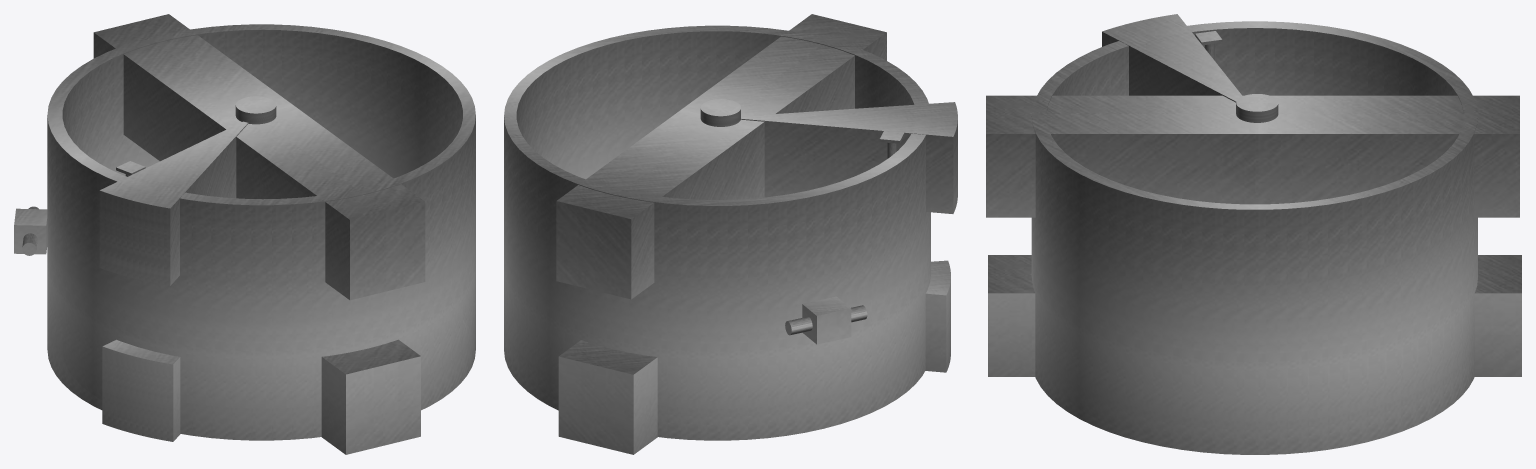
The model's file is kyq_bak.dae.
3 renders of one model, left to right at view 1: azimuth 30°, elevation 25°; view 2: azimuth 150°, elevation 25°; view 3: azimuth 270°, elevation 25°, orthographic. The views are drawn at different scales.
Visible parts, largest first — view 1: SketchUp (×8); view 2: SketchUp (×8); view 3: SketchUp (×6).
Part boxes in pixels (x1,y1,x2,y2): SketchUp (×8): [14, 14, 475, 454]; SketchUp (×8): [504, 14, 957, 454]; SketchUp (×6): [986, 14, 1521, 454].
Bounding box in the file's own units: 10.48 × 12.14 × 6.41.
Materials: 1 (1 with a texture image).
